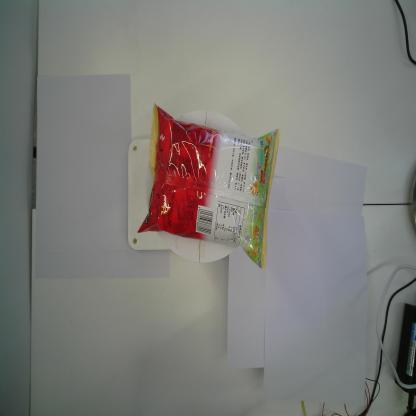Puffed Food: (136, 101, 280, 270)
